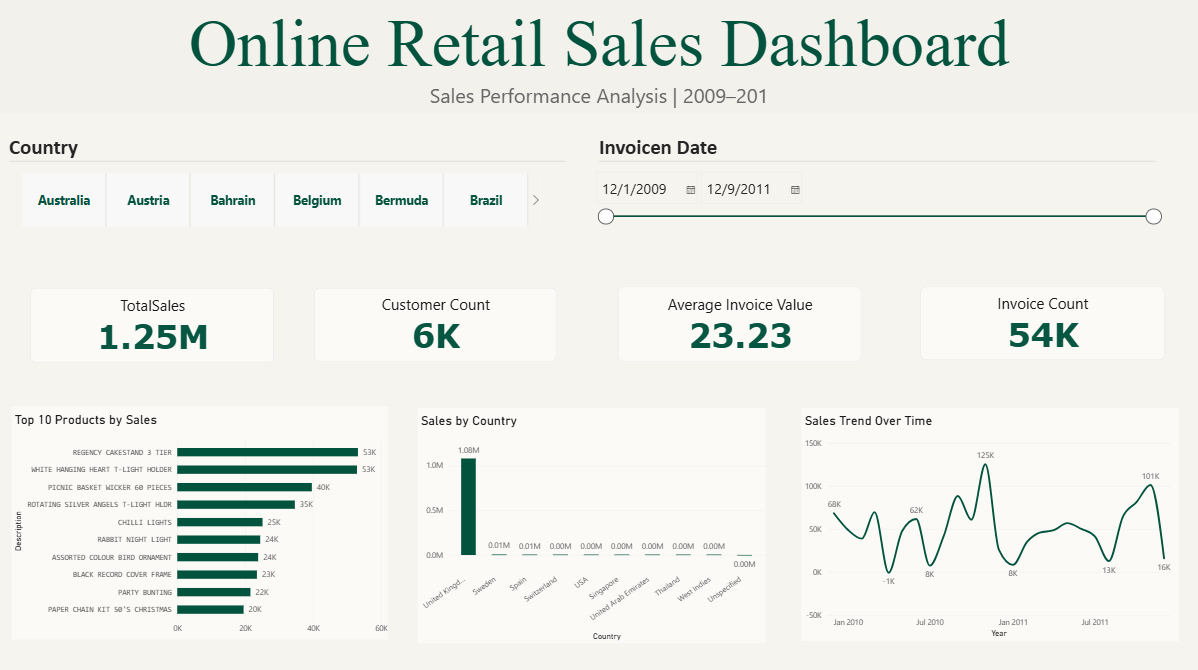

This screenshot's page, from the dashboard's own definition file:
{"tool":"powerbi","page":{"name":"Page 1","canvas":[1920,1080],"ordinal":0},"visuals":[{"type":"cardVisual","fields":{"Data":["Online Retail.Invoice Count"]},"box":[514,460,391,118],"z":0},{"type":"clusteredColumnChart","title":"Sales by Country","fields":{"Category":["Online Retail.Country"],"Y":["Online Retail.TotalSales"]},"box":[670,653.3,556.7,376.7],"z":1000},{"type":"lineChart","title":"Sales Trend Over Time","fields":{"Category":["Online Retail.InvoiceDate.Variation.Date Hierarchy.Year","Online Retail.InvoiceDate.Variation.Date Hierarchy.Month"],"Y":["Online Retail.TotalSales"]},"box":[1283.3,653.3,603.3,373.3],"z":2000},{"type":"clusteredBarChart","title":"   Top 10 Products by Sales","fields":{"Category":["Online Retail.Description"],"Y":["Online Retail.TotalSales"]},"box":[20,652.5,602.5,372.5],"z":3000},{"type":"cardVisual","fields":{"Data":["Online Retail.Average Invoice Value"]},"box":[990,460,390,120],"z":4000},{"type":"cardVisual","fields":{"Data":["Online Retail.Customer Count"]},"box":[1462,460,388,118],"z":5000},{"type":"slicer","fields":{"Values":["Online Retail.Country"]},"box":[16,276,850,92],"z":6000},{"type":"slicer","fields":{"Values":["Online Retail.InvoiceDate"]},"box":[948,272,916,96],"z":7000},{"type":"cardVisual","fields":{"Data":["Online Retail.TotalSales"]},"box":[50,461.7,390,120],"z":8000},{"type":"textbox","box":[0,0,1920,183.3],"z":9000},{"type":"textbox","title":"Invoicen Date","box":[960,216,890,60],"z":10000},{"type":"textbox","title":"Country","box":[16,216,890,60],"z":11000}]}

Visuals, with their boxes in screenshot pixels (x1, y1, x2, y2), scaled from the page's 1920x1080 canvas onto the 1198x670 screenshot:
cardVisual - Online Retail.Invoice Count: {"left": 321, "top": 285, "right": 565, "bottom": 359}
"Sales by Country" clusteredColumnChart: {"left": 418, "top": 405, "right": 765, "bottom": 639}
"Sales Trend Over Time" lineChart: {"left": 801, "top": 405, "right": 1177, "bottom": 637}
"   Top 10 Products by Sales" clusteredBarChart: {"left": 12, "top": 405, "right": 388, "bottom": 636}
cardVisual - Online Retail.Average Invoice Value: {"left": 618, "top": 285, "right": 861, "bottom": 360}
cardVisual - Online Retail.Customer Count: {"left": 912, "top": 285, "right": 1154, "bottom": 359}
slicer - Online Retail.Country: {"left": 10, "top": 171, "right": 540, "bottom": 228}
slicer - Online Retail.InvoiceDate: {"left": 592, "top": 169, "right": 1163, "bottom": 228}
cardVisual - Online Retail.TotalSales: {"left": 31, "top": 286, "right": 275, "bottom": 361}
textbox: {"left": 0, "top": 0, "right": 1197, "bottom": 114}
"Invoicen Date" textbox: {"left": 599, "top": 134, "right": 1154, "bottom": 171}
"Country" textbox: {"left": 10, "top": 134, "right": 565, "bottom": 171}
